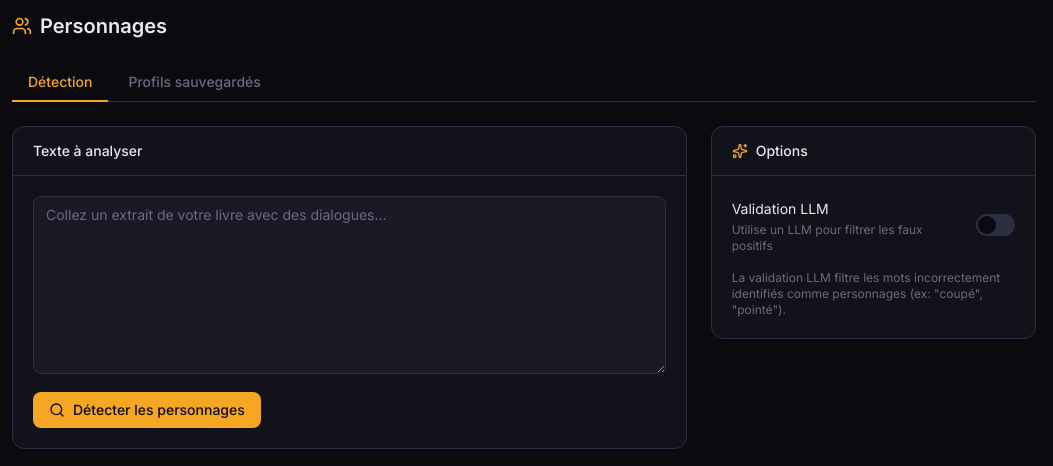
Test case: CharactersPage › switches to profiles tab
Click the button "Profils sauvegardés" at (195, 83), box [112,64,277,102]
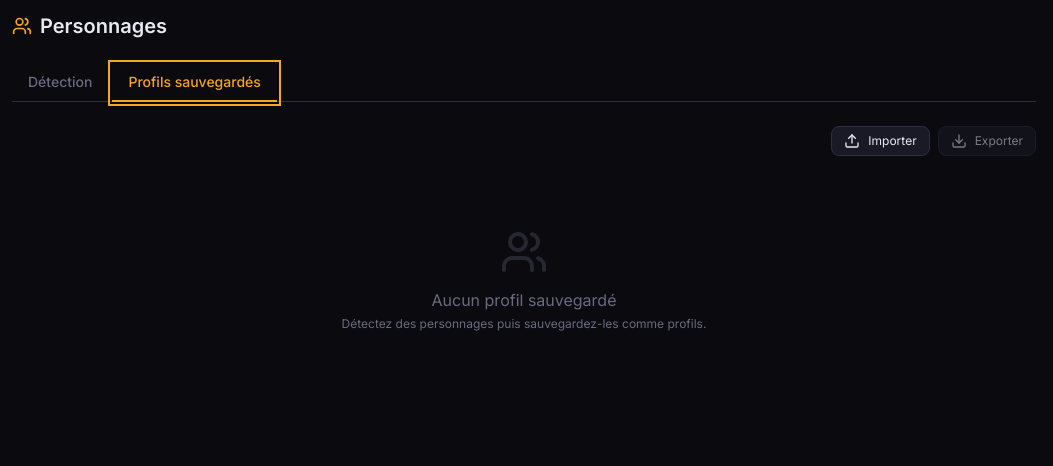
Expected: the text "Aucun profil sauvegardé" is shown, [432,290,616,310]
